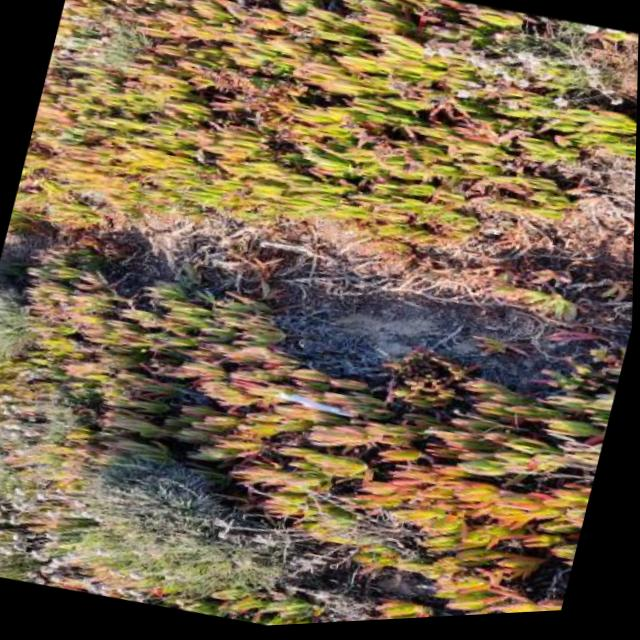paper: (272, 384, 357, 422)
